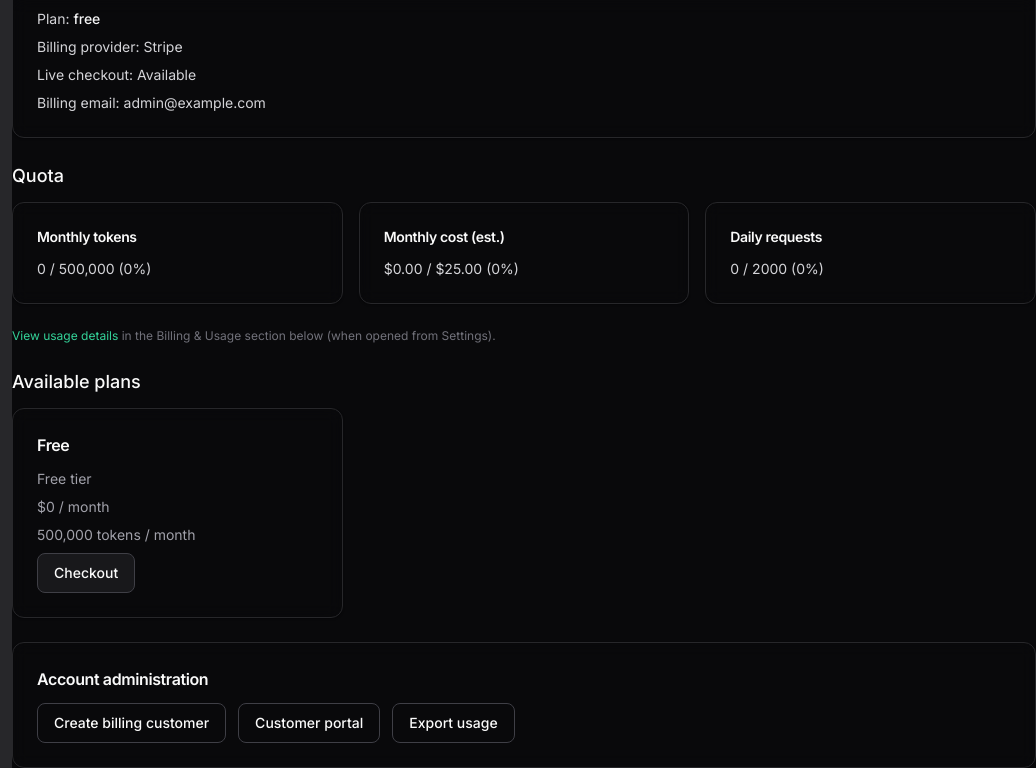
BillingPageView product voice › formats usage export summary with shared formatters and backend currency
(page scrolled)
What coordinates should you click on to do the following:
click the button "Export usage"
I would click on:
 (453, 723)
Its box is [392,703,515,743].
(page scrolled)
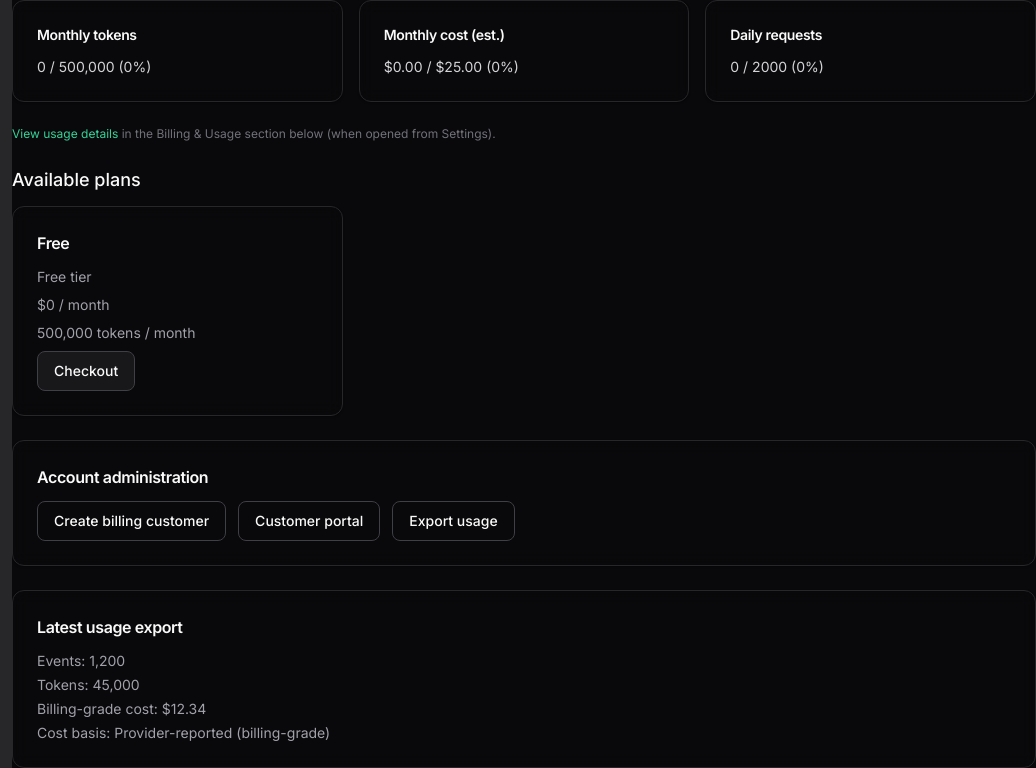
Expected: the element with test id "usage-export-summary" is shown, [12,590,1035,767]
Expected: the text with test id "usage-export-events" shows "1,200", [89,652,125,669]
Expected: the text with test id "usage-export-tokens" shows "45,000", [92,676,140,693]
